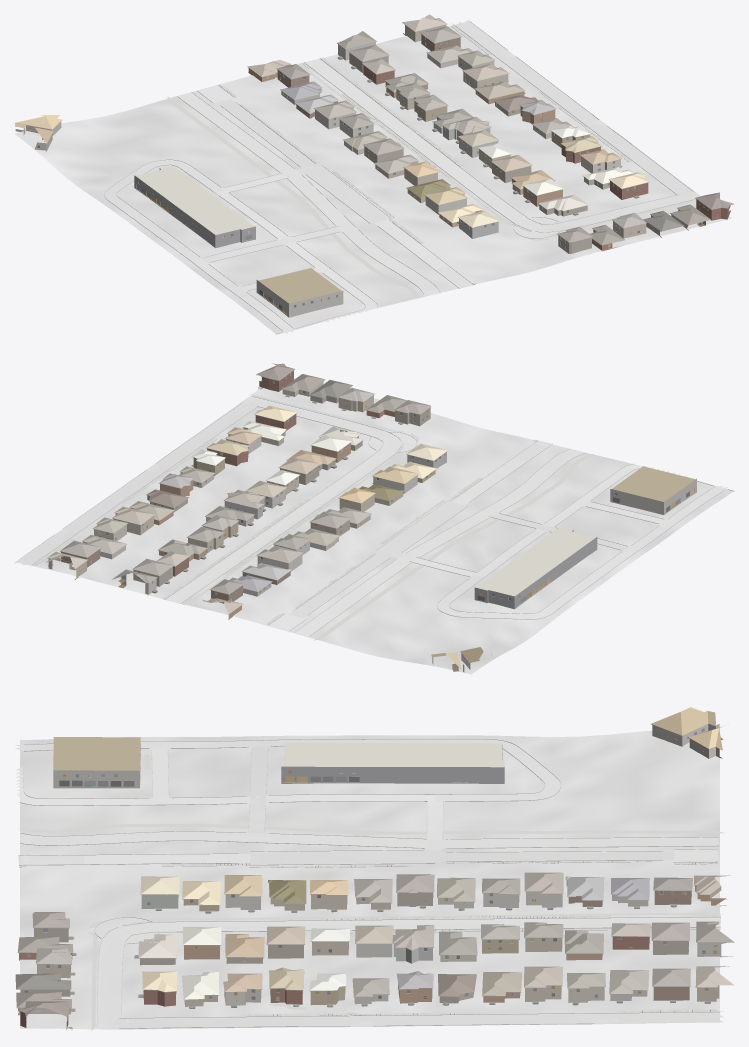
3 views of the same model, one above another, from view 1: azimuth 30°, elevation 25°; view 2: azimuth 150°, elevation 25°; view 3: azimuth 270°, elevation 25° (orthographic). The views are drawn at different scales.
Visible parts, largest first — view 1: ground, roof, concrete, asphalt, wall, roof_flat, curb, walk, wall_stucco, wall_com, detail, wall_stone (+2 smaller); view 2: ground, roof, concrete, asphalt, wall, roof_flat, curb, walk, wall_stucco, wall_com, detail, wall_stone (+2 smaller); view 3: ground, roof, concrete, asphalt, wall, curb, roof_flat, walk, wall_stucco, wall_com, wall_stone, detail (+4 smaller).
Boxes of the visible parts, x1,y1,x2,y2 form: ground: [14, 22, 731, 334]; roof: [15, 14, 734, 245]; concrete: [104, 19, 699, 333]; asphalt: [178, 85, 473, 296]; wall: [248, 25, 730, 253]; roof_flat: [136, 166, 341, 303]; curb: [104, 21, 695, 334]; walk: [167, 24, 696, 298]; wall_stucco: [15, 57, 688, 238]; wall_com: [134, 168, 343, 317]; detail: [15, 22, 727, 313]; wall_stone: [23, 41, 551, 214]; ground: [19, 378, 734, 674]; roof: [45, 363, 483, 669]; concrete: [14, 396, 727, 619]; asphalt: [269, 440, 585, 636]; wall: [48, 370, 435, 619]; roof_flat: [476, 466, 695, 596]; curb: [16, 396, 734, 636]; walk: [32, 394, 659, 640]; wall_stucco: [94, 381, 446, 664]; wall_com: [474, 478, 696, 609]; detail: [48, 369, 694, 668]; wall_stone: [83, 472, 470, 672]; ground: [20, 729, 719, 1029]; roof: [15, 707, 734, 1016]; concrete: [15, 739, 724, 1028]; asphalt: [18, 831, 718, 864]; wall: [19, 880, 726, 1029]; curb: [18, 738, 723, 1028]; roof_flat: [53, 737, 504, 770]; walk: [19, 754, 724, 1030]; wall_stucco: [18, 739, 722, 1015]; wall_com: [53, 743, 504, 788]; wall_stone: [225, 724, 733, 1004]; detail: [16, 723, 730, 1029].
Bounding box in the file's own units: 255 × 13.83 × 257.
